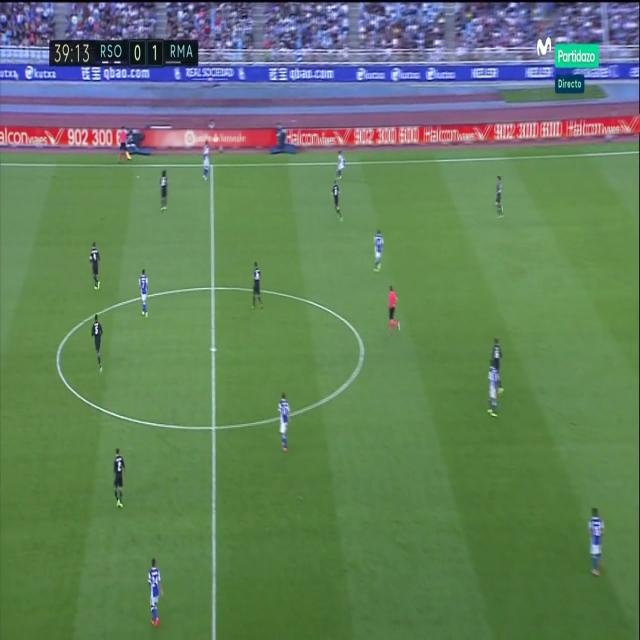Player: (586, 506, 608, 582), (147, 555, 165, 630), (112, 446, 126, 512), (278, 392, 292, 456), (491, 339, 505, 395), (91, 311, 103, 376), (486, 359, 498, 421), (250, 258, 263, 314), (138, 266, 151, 322), (371, 229, 386, 277), (88, 241, 102, 292), (494, 172, 506, 222), (159, 168, 170, 216), (332, 181, 343, 224), (201, 140, 212, 182), (336, 147, 346, 183)
Referee: (386, 284, 402, 338), (116, 125, 129, 167)
